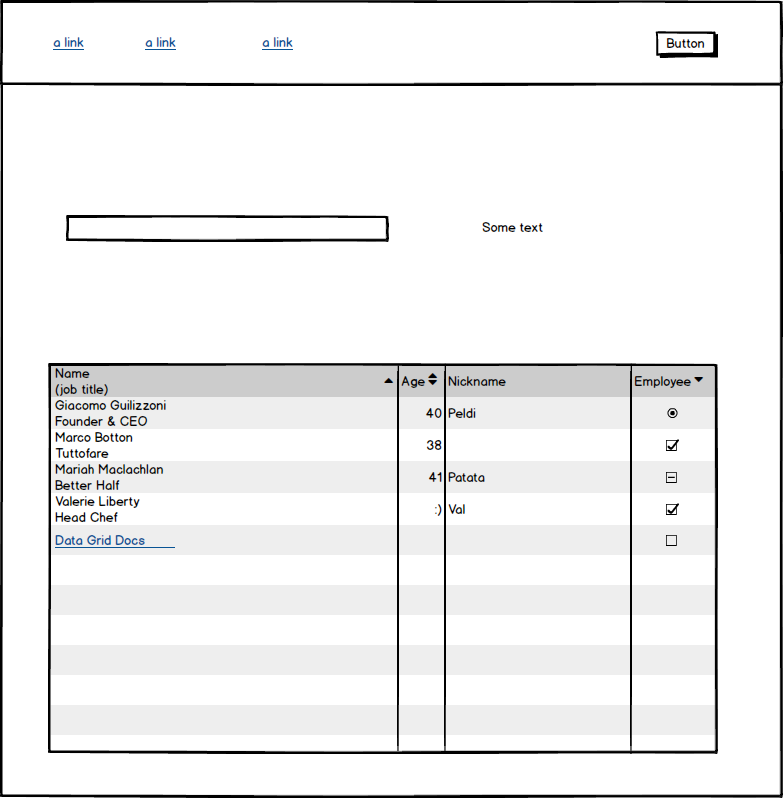button: (647, 27, 727, 65)
input: (62, 210, 399, 249)
label: (473, 216, 545, 238)
navlink: (254, 32, 307, 56), (140, 33, 190, 54), (49, 33, 90, 51)
table: (40, 358, 731, 761)
